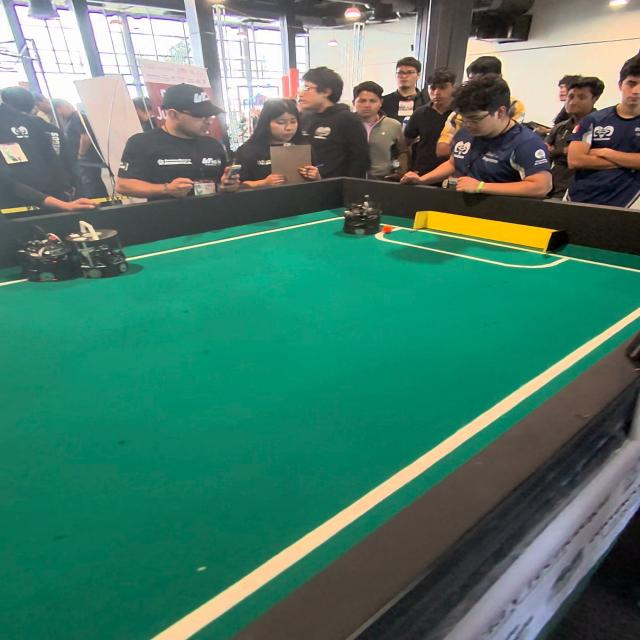Robot: (65, 216, 130, 281), (19, 222, 73, 290), (340, 190, 390, 239)
pelota: (382, 225, 393, 233)
